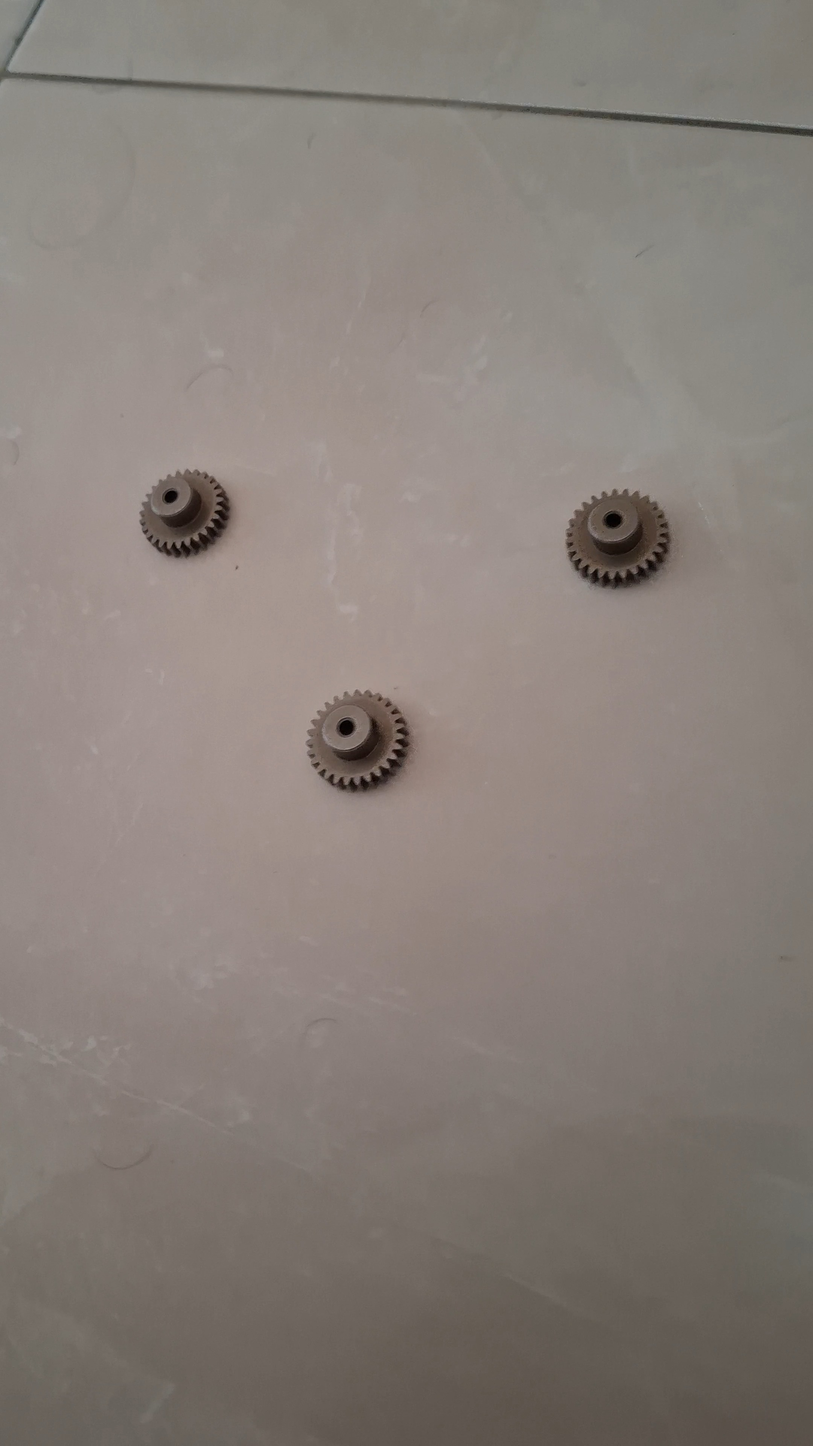spur gear: (307, 691, 408, 789), (566, 490, 669, 585), (141, 470, 228, 555)
